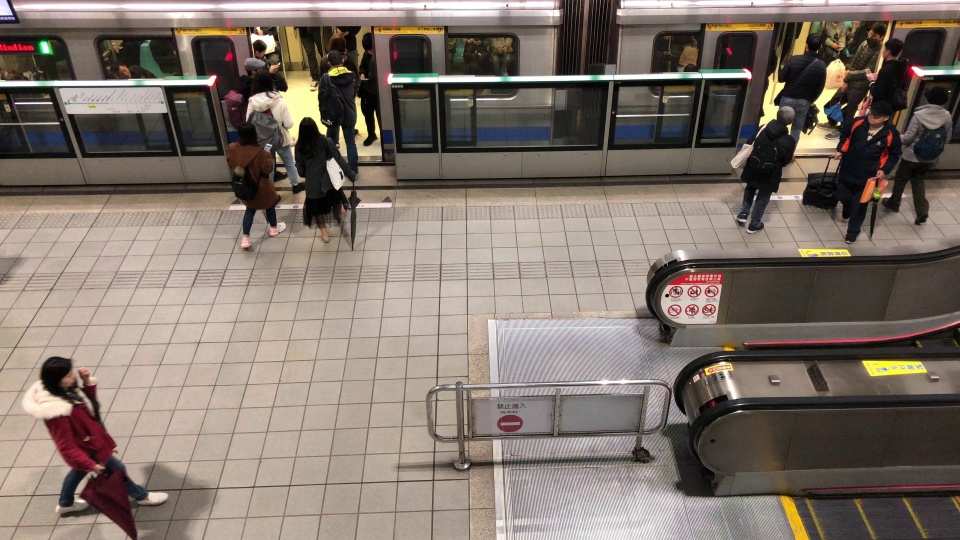person_head: (37, 355, 78, 399), (916, 83, 950, 113), (294, 117, 324, 149), (864, 97, 892, 127), (233, 120, 259, 149), (881, 36, 905, 60), (865, 22, 888, 45), (251, 71, 272, 96), (241, 57, 266, 78), (802, 32, 823, 55), (324, 34, 348, 54), (360, 30, 378, 56), (775, 105, 795, 127), (322, 51, 345, 69), (250, 38, 268, 57)
person_vbox: (17, 355, 168, 521), (885, 83, 956, 227), (834, 97, 903, 241), (815, 22, 888, 142), (224, 120, 287, 251), (734, 107, 797, 236), (293, 118, 355, 245), (246, 72, 306, 195), (774, 32, 827, 161), (222, 58, 269, 194), (316, 52, 361, 180), (315, 35, 361, 140), (864, 35, 909, 133), (354, 29, 387, 146), (248, 37, 280, 125)
